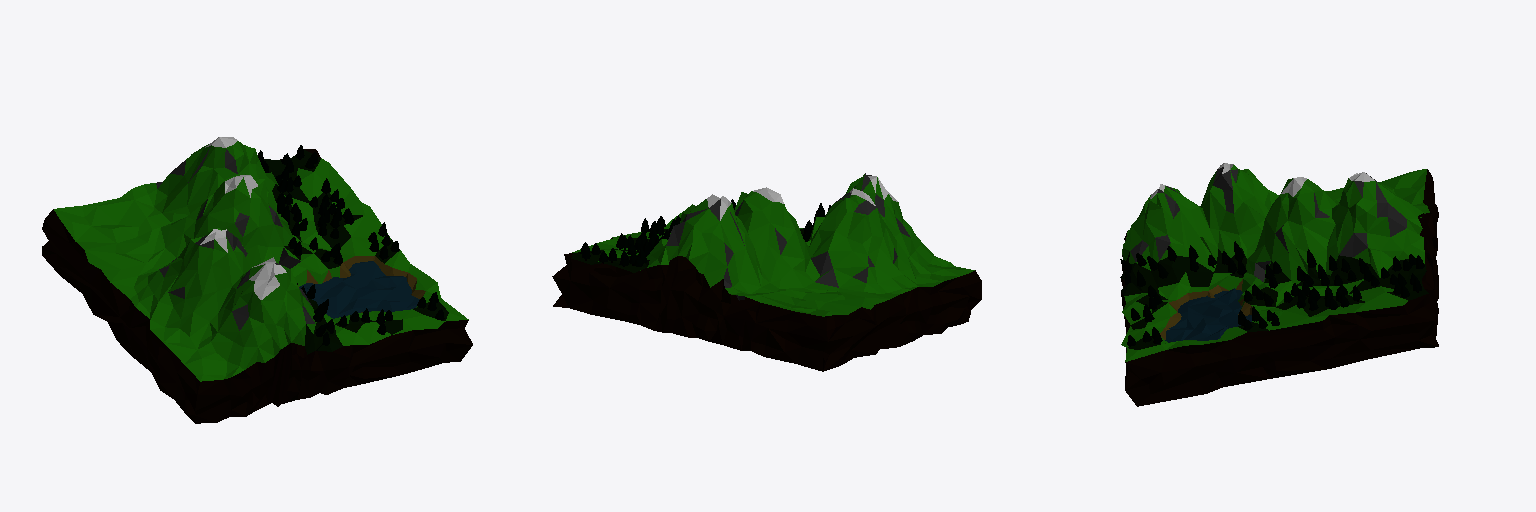
File: mountains.obj
3 views of the same model, side by side, from view 1: azimuth 30°, elevation 25°; view 2: azimuth 150°, elevation 25°; view 3: azimuth 270°, elevation 25° (orthographic).
Visible parts, largest first — view 1: Object.78, Object.77; view 2: Object.78; view 3: Object.78, Object.77.
Boxes of the visible parts, x1,y1,x2,y2 form: Object.78: [42, 137, 472, 423]; Object.77: [299, 261, 419, 318]; Object.78: [552, 173, 981, 371]; Object.78: [1120, 163, 1438, 406]; Object.77: [1165, 288, 1251, 342].
Bounding box in the file's own units: 107 × 63.67 × 106.